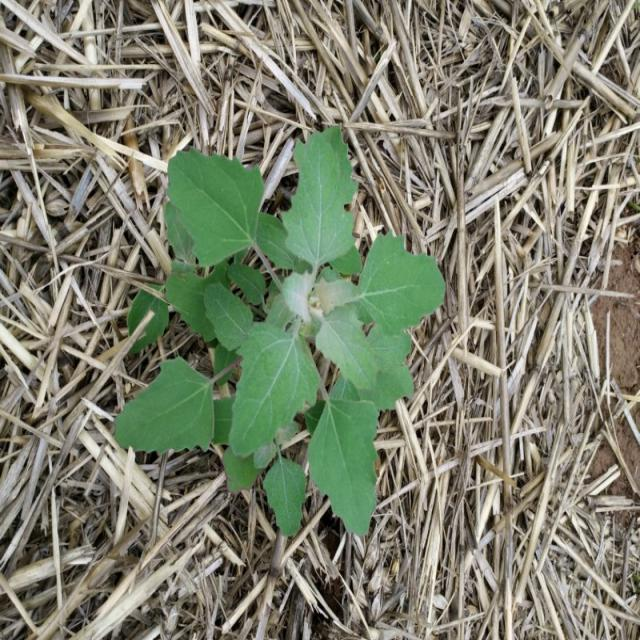ca: (120, 126, 442, 537)
